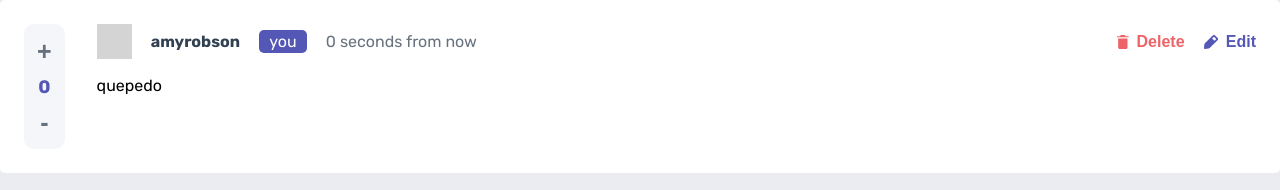
Test: Comment component › click "+" three times, then "-" once, and the counter will be 2.
Click the button "+". click: [44, 52]
box: [32, 32, 57, 71]
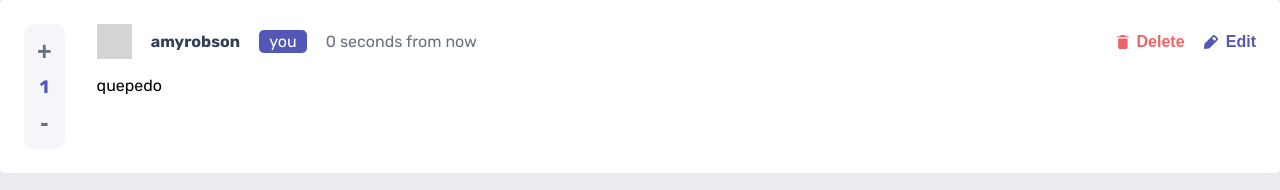
Click the button "+". click: [44, 52]
box: [32, 32, 57, 71]
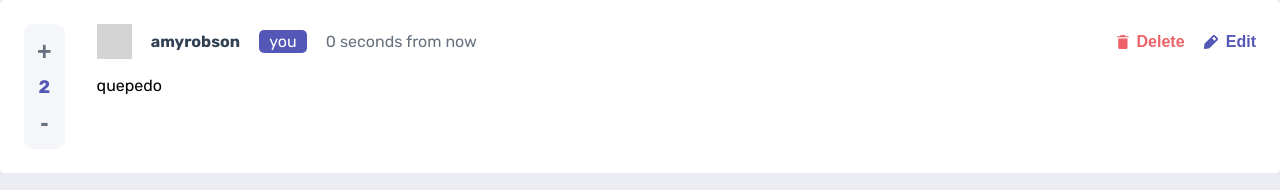
Click the button "+". click: [44, 52]
box: [32, 32, 57, 71]
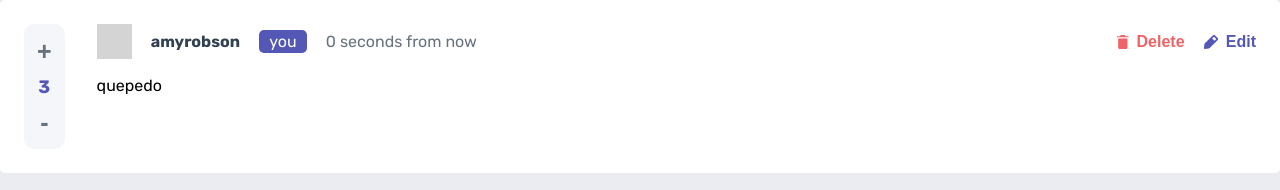
Click the button "-". click: [44, 122]
box: [35, 103, 53, 142]
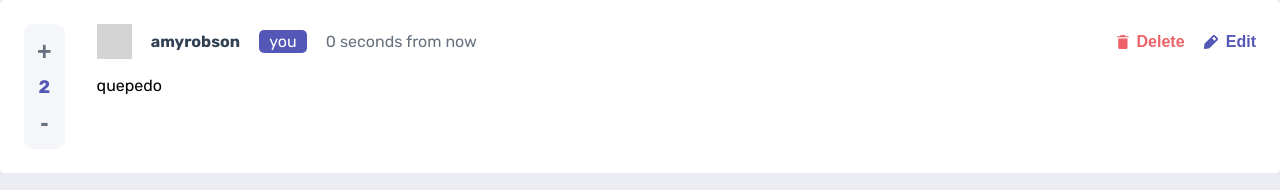
Check: the text with test id "counter-text" reads "2", box [38, 76, 50, 98]
